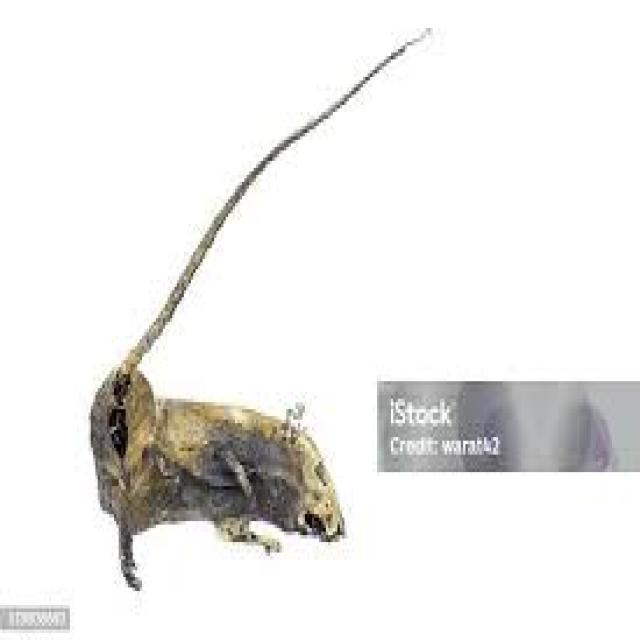rat: (86, 360, 345, 591)
